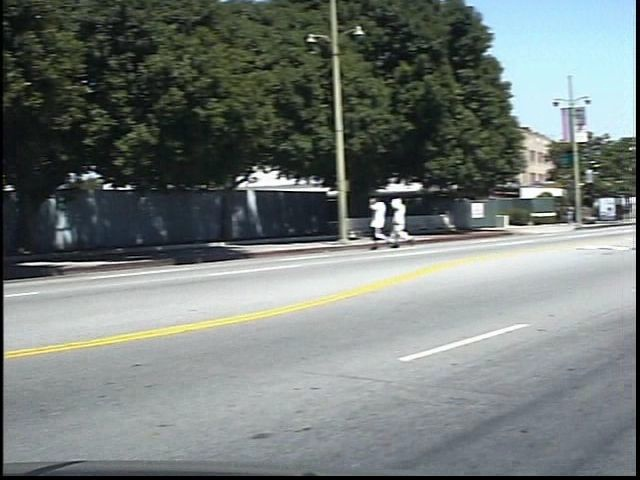person: (383, 192, 409, 255), (407, 193, 433, 253)
